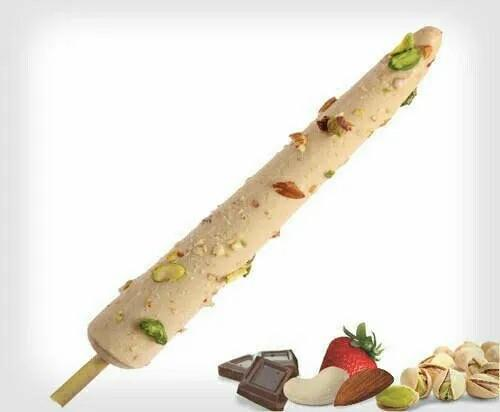Kulfi: (89, 27, 442, 370)
